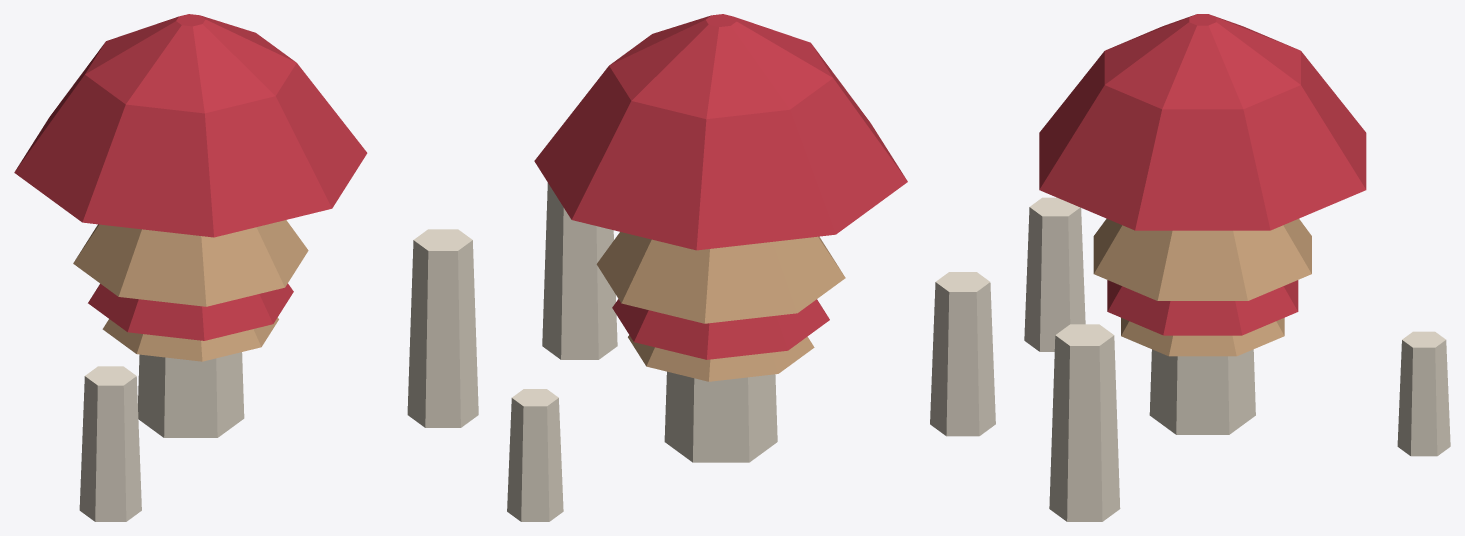
The model's file is mushroom_cluster.glb.
The picture shows the model from 3 angles, left to right: view 1: azimuth 30°, elevation 25°; view 2: azimuth 150°, elevation 25°; view 3: azimuth 270°, elevation 25°; orthographic projection. The views are drawn at different scales.
Parts seen in each view (by area): view 1: mushroom_cluster; view 2: mushroom_cluster; view 3: mushroom_cluster.
Part boxes in pixels (<box>): mushroom_cluster: <box>14,14,478,521</box>; mushroom_cluster: <box>507,14,995,521</box>; mushroom_cluster: <box>1024,14,1450,521</box>.
Bounding box in the file's own units: 0.309 × 0.296 × 0.289.
